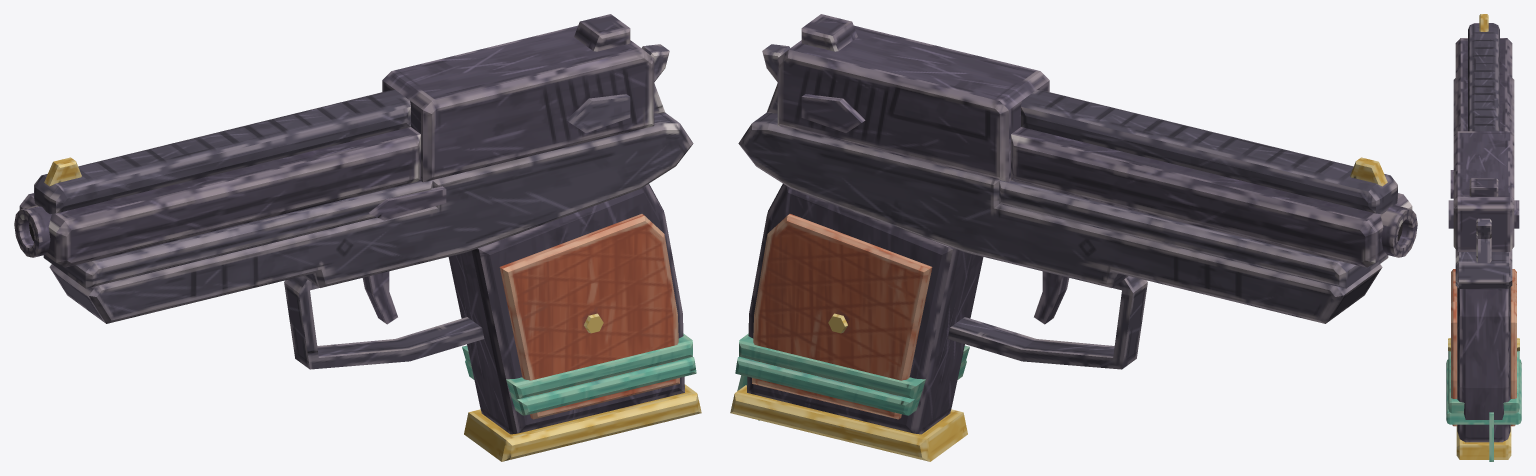
The model's file is pistol.fbx.
3 renders of one model, left to right at view 1: azimuth 30°, elevation 25°; view 2: azimuth 150°, elevation 25°; view 3: azimuth 270°, elevation 25°, orthographic. The views are drawn at different scales.
Parts seen in each view (by area): view 1: pistol; view 2: pistol; view 3: pistol.
Boxes of the visible parts, x1,y1,x2,y2 form: pistol: (14,14,701,461); pistol: (730,14,1417,461); pistol: (1446,14,1521,461).
Bounding box in the file's own units: 1.12 × 0.6525 × 0.1714.
1 material, 1 textured.
